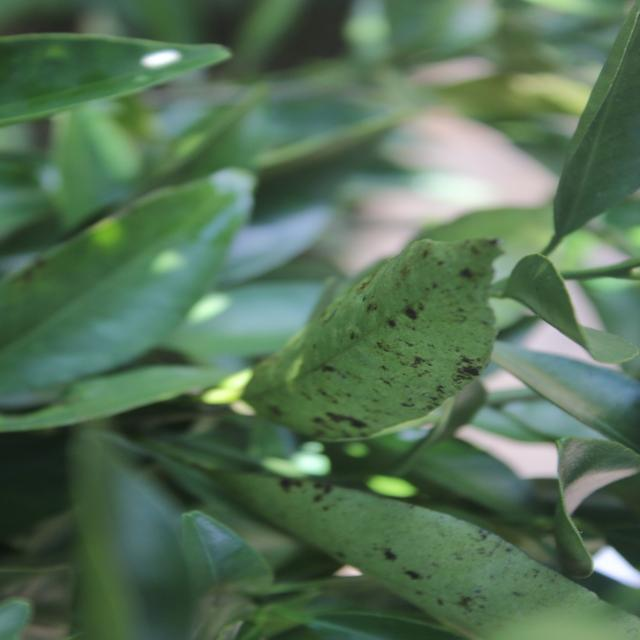melanose: (164, 439, 640, 639), (260, 216, 530, 457)
